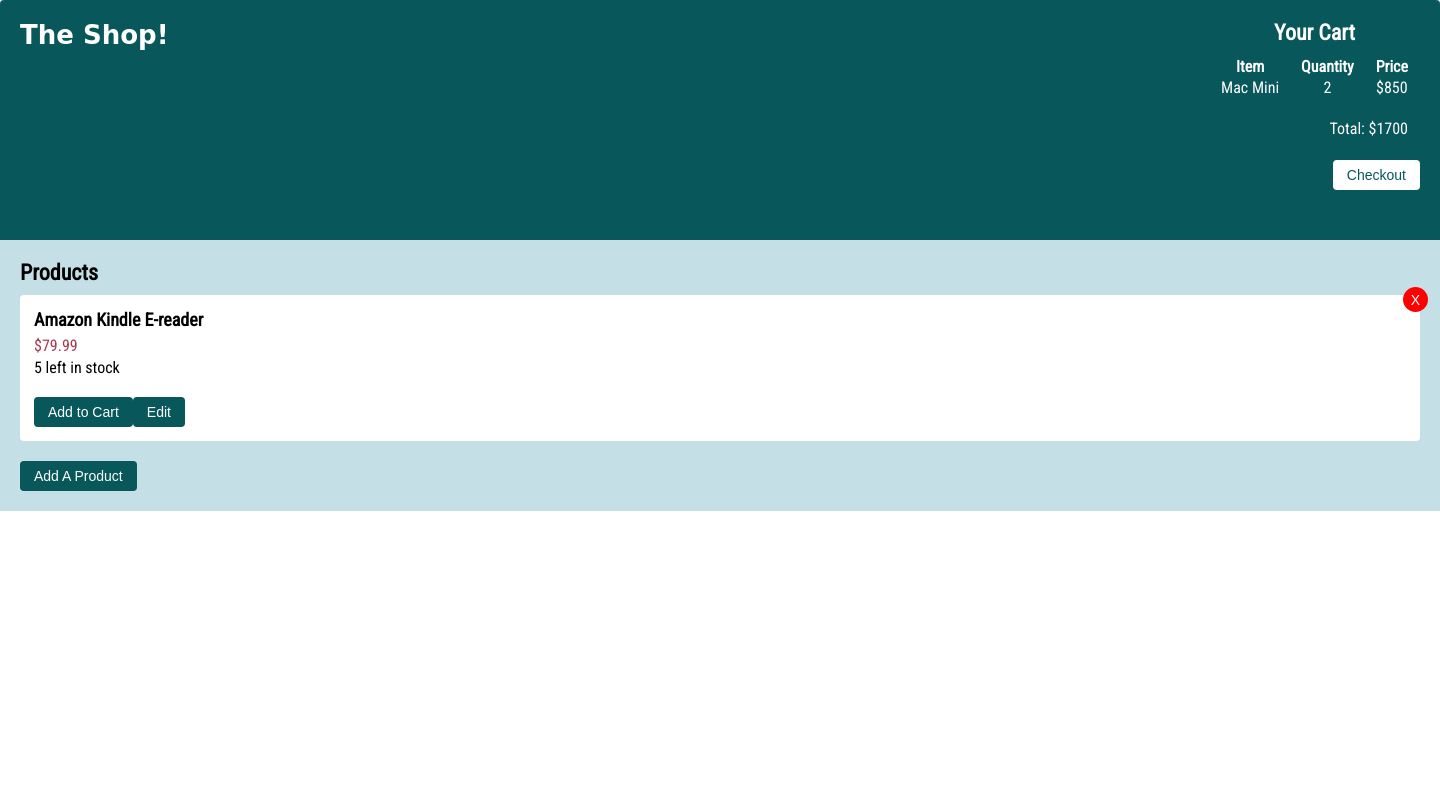
Edits are rendered from server
Click the button "Edit" at (159,412), box left=133, top=397, right=185, bottom=427
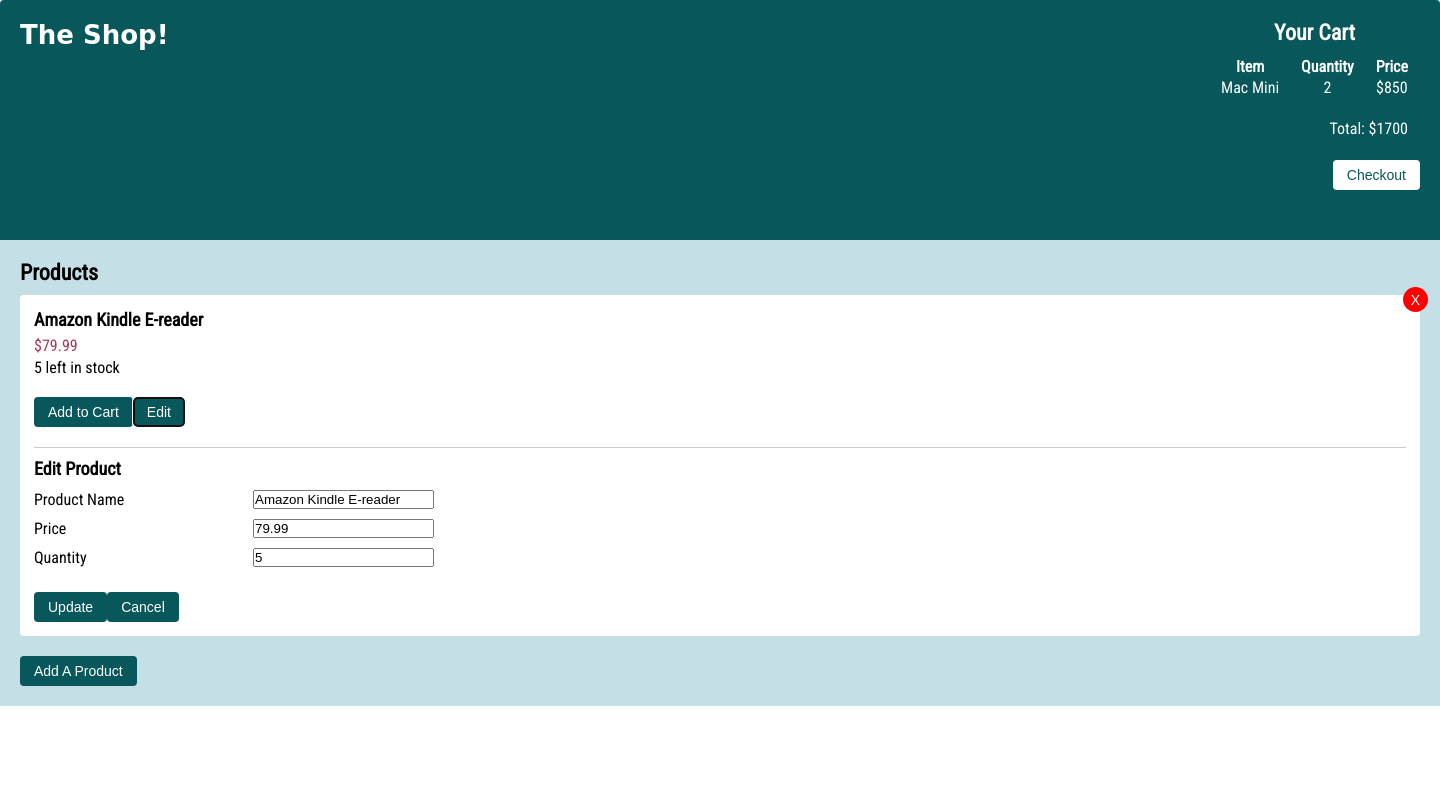
Type "grape" into the field labelled "Product Name" at (344,500), box left=253, top=490, right=434, bottom=509
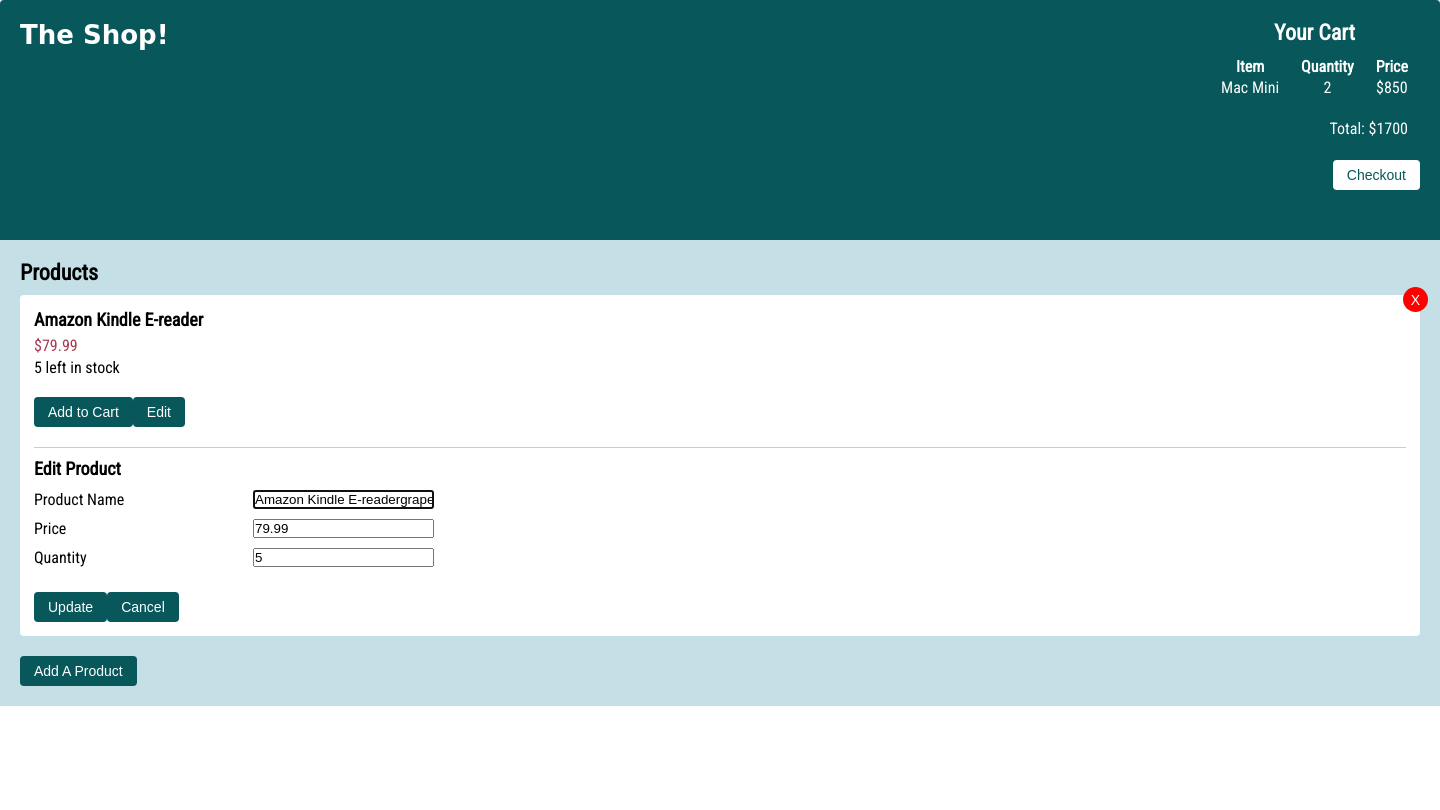
Click the button "Update" at (71,607), box left=34, top=592, right=107, bottom=622
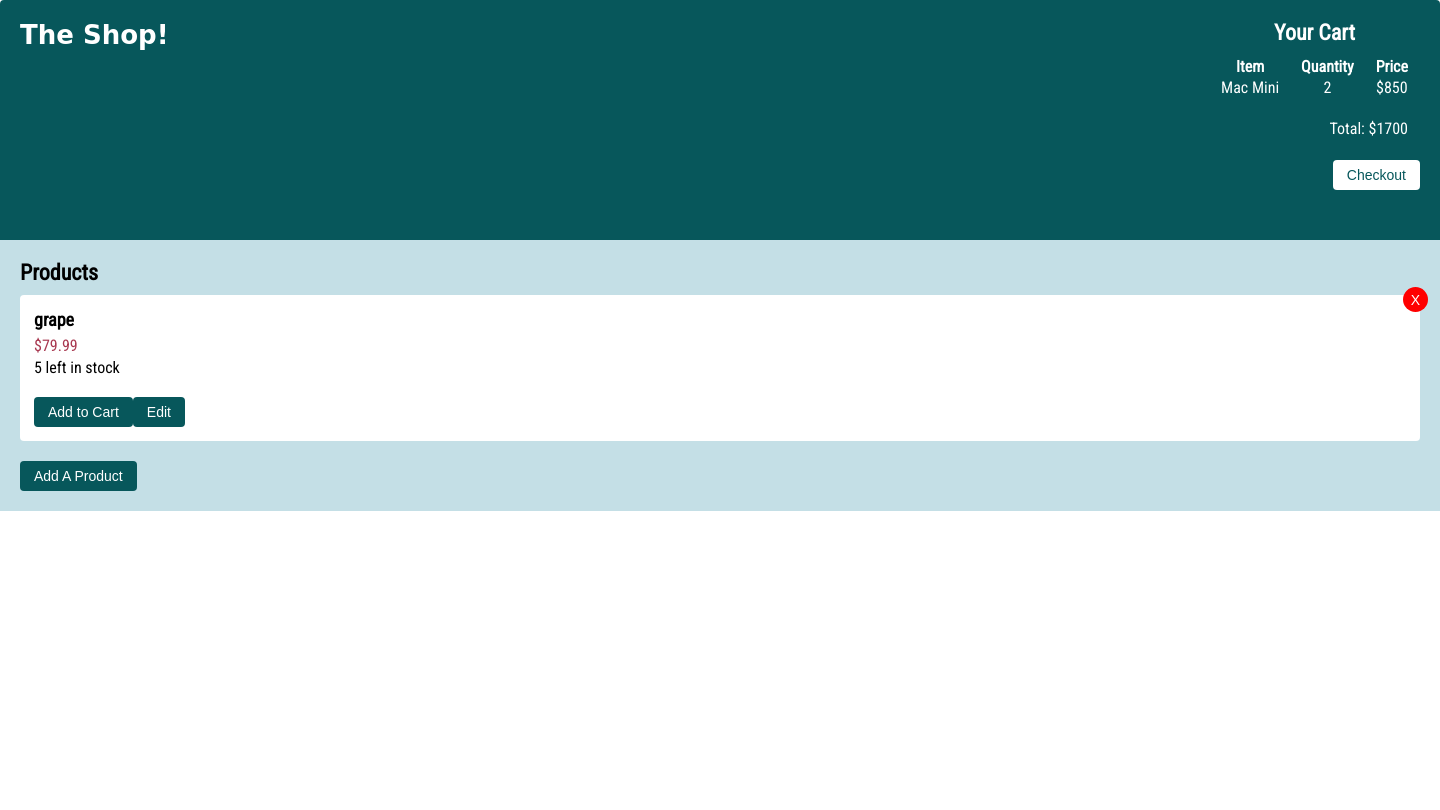
Expected: the heading "grape" is shown, left=34, top=309, right=74, bottom=330
